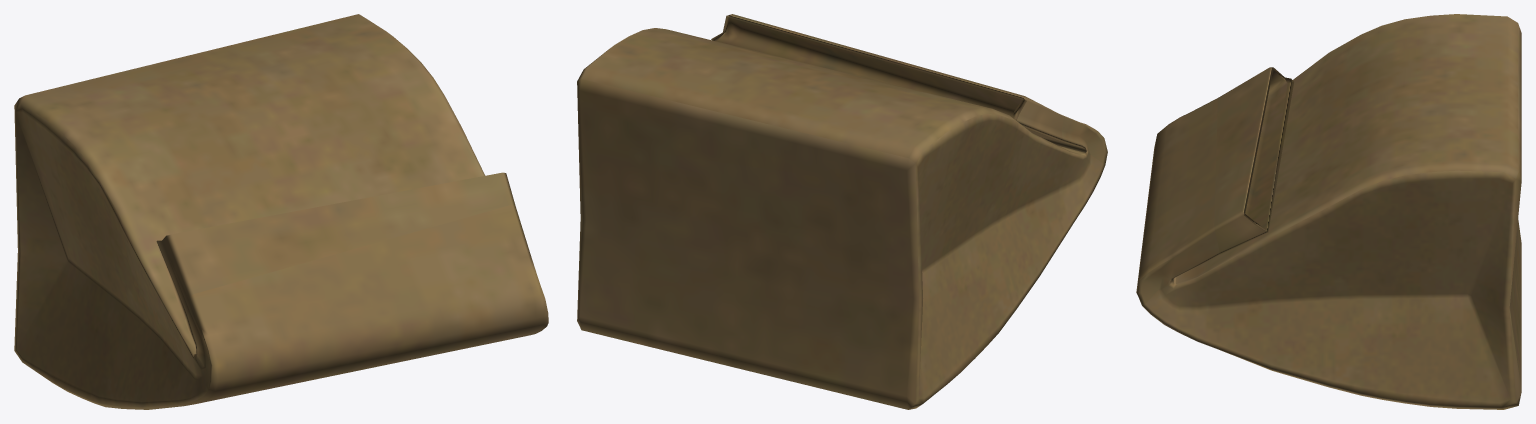
The model's file is ToolBagLow.glb.
3 renders of one model, left to right at view 1: azimuth 30°, elevation 25°; view 2: azimuth 150°, elevation 25°; view 3: azimuth 270°, elevation 25°, orthographic. The views are drawn at different scales.
Visible parts, largest first — view 1: Body__mTool; view 2: Body__mTool; view 3: Body__mTool.
Boxes of the visible parts, x1,y1,x2,y2 form: Body__mTool: [14, 14, 548, 409]; Body__mTool: [577, 14, 1107, 409]; Body__mTool: [1136, 14, 1521, 409].
Bounding box in the file's own units: 2.43 × 1.79 × 2.53.
1 material, 1 textured.
